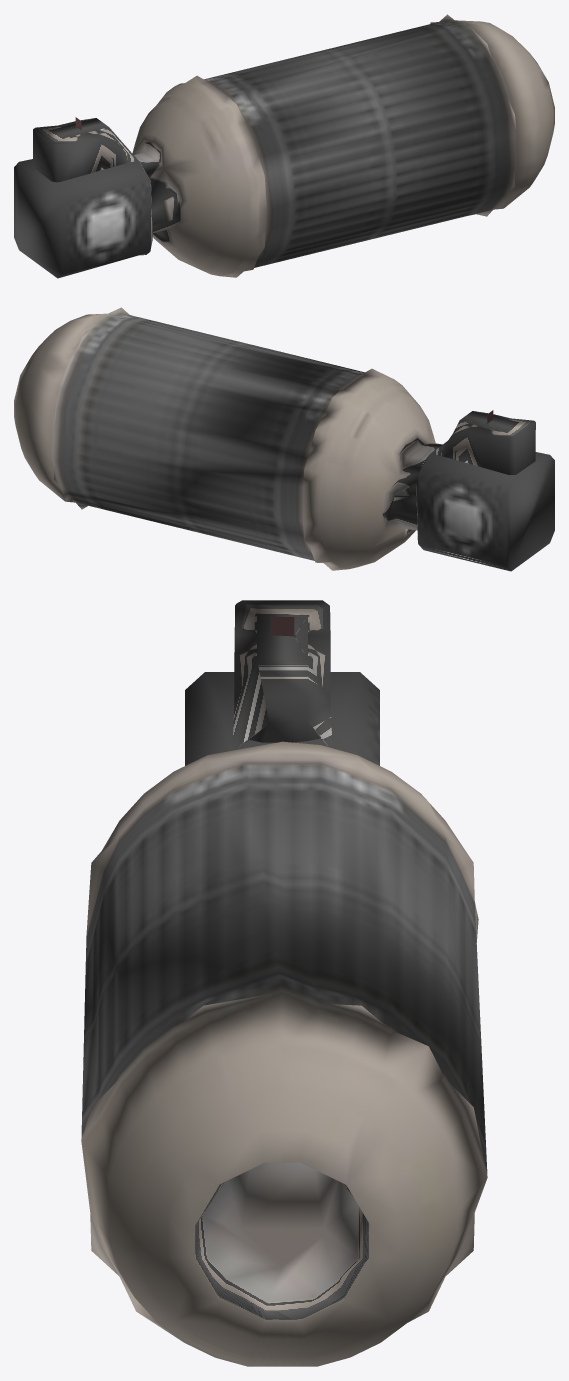
Rendered from smoke.glb.
The picture shows the model from 3 angles, top to bottom: view 1: azimuth 30°, elevation 25°; view 2: azimuth 150°, elevation 25°; view 3: azimuth 270°, elevation 25°; orthographic projection. The views are drawn at different scales.
Visible parts, largest first — view 1: smoke; view 2: smoke; view 3: smoke.
Part boxes in pixels (x1,y1,x2,y2): smoke: [14, 14, 554, 278]; smoke: [14, 307, 554, 571]; smoke: [81, 600, 487, 1366].
Size of the model in its own units: 0.2392 by 0.0851 by 0.0851.
Materials: 1 (1 with a texture image).
